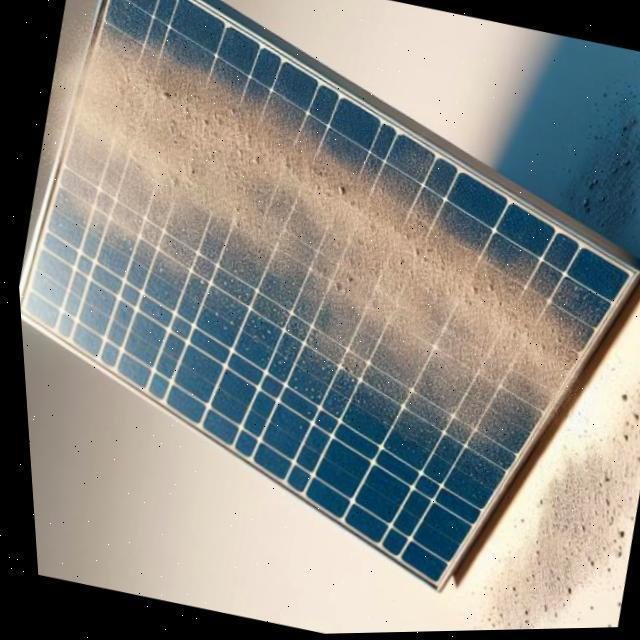Anomaly Solar Panel: (15, 0, 627, 586)
Surface Contaminant: (26, 0, 622, 510)
